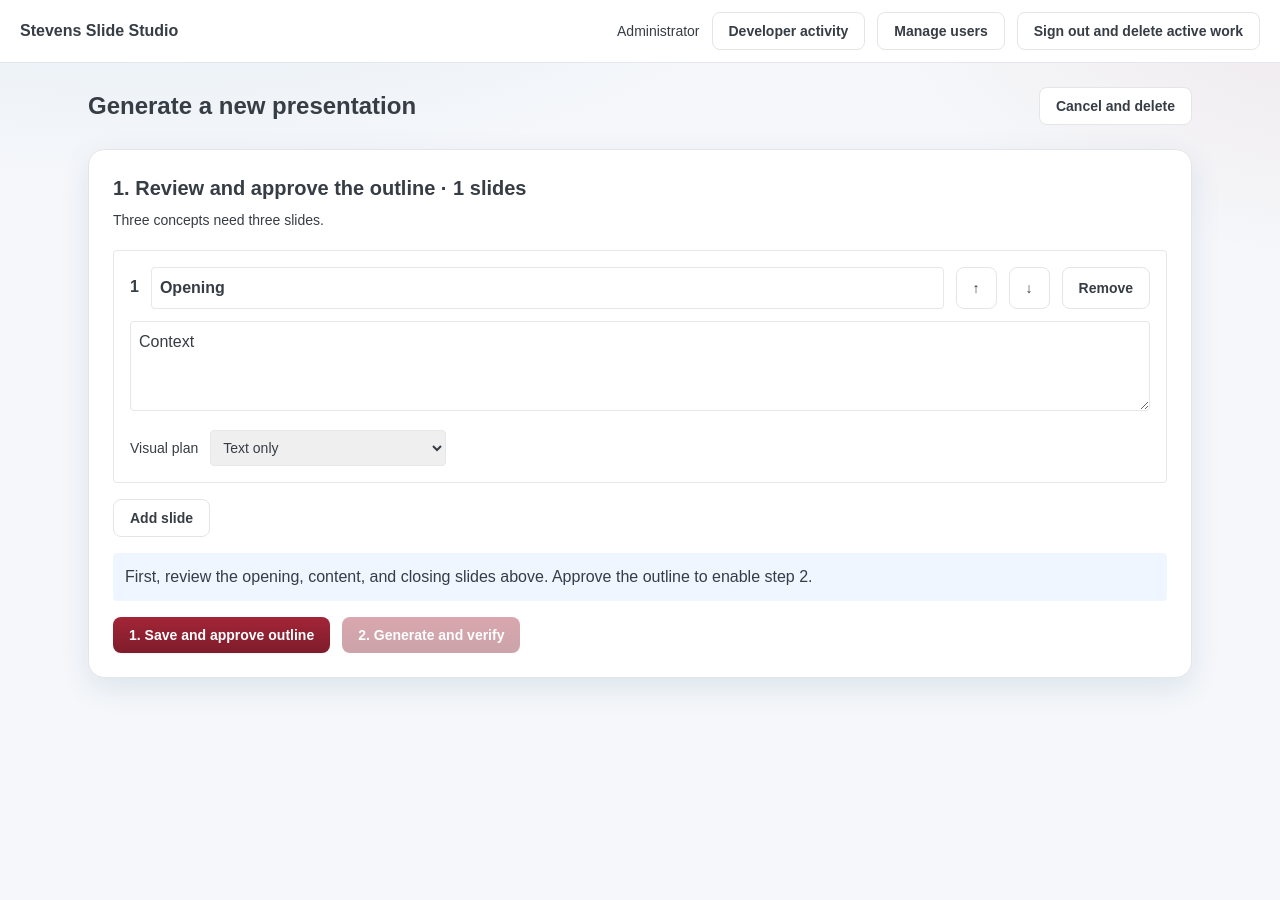
Test: outline approval is required and edits invalidate generation
Expected: the button "2. Generate and verify" is disabled, [342,617,520,653]
Click the button "1. Save and approve outline" at {"x": 222, "y": 635}, box [113,617,330,653]
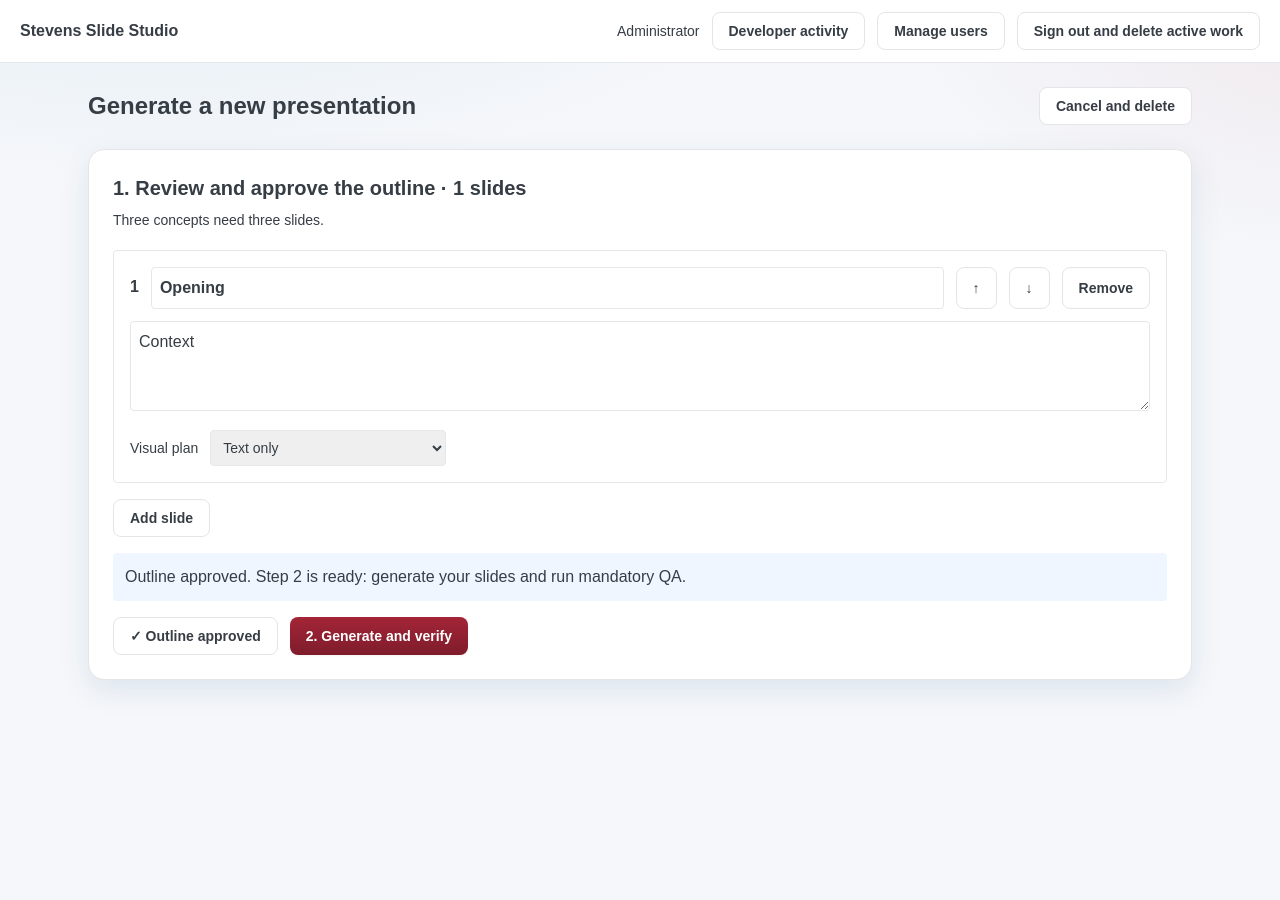
Result: the button "2. Generate and verify" is enabled at [290,617,468,655]
Replace the text in the field named "Slide 1 title" with "Updated opening" at {"x": 547, "y": 288}, box [151,267,944,309]
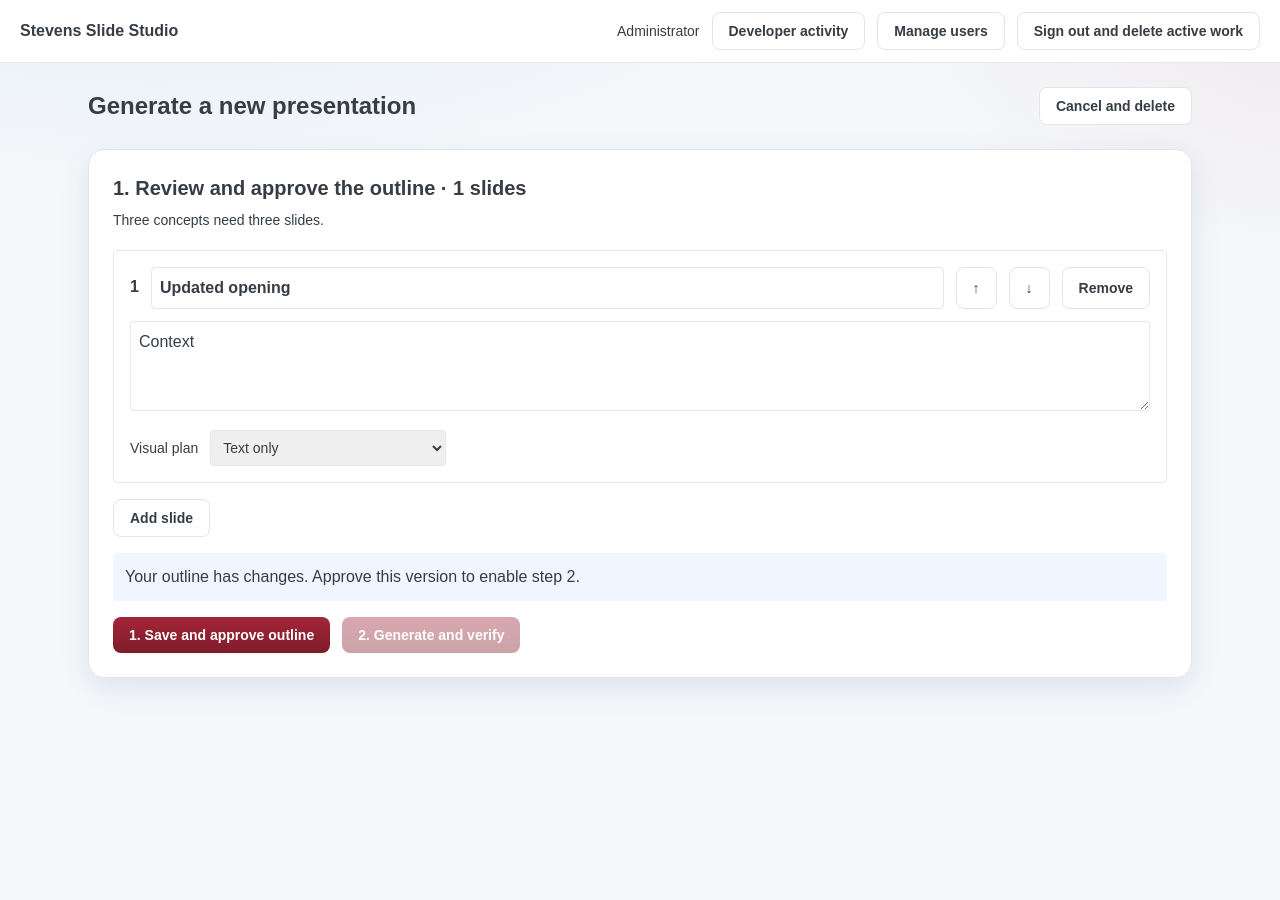
Result: the button "2. Generate and verify" is disabled at [342,617,520,653]
